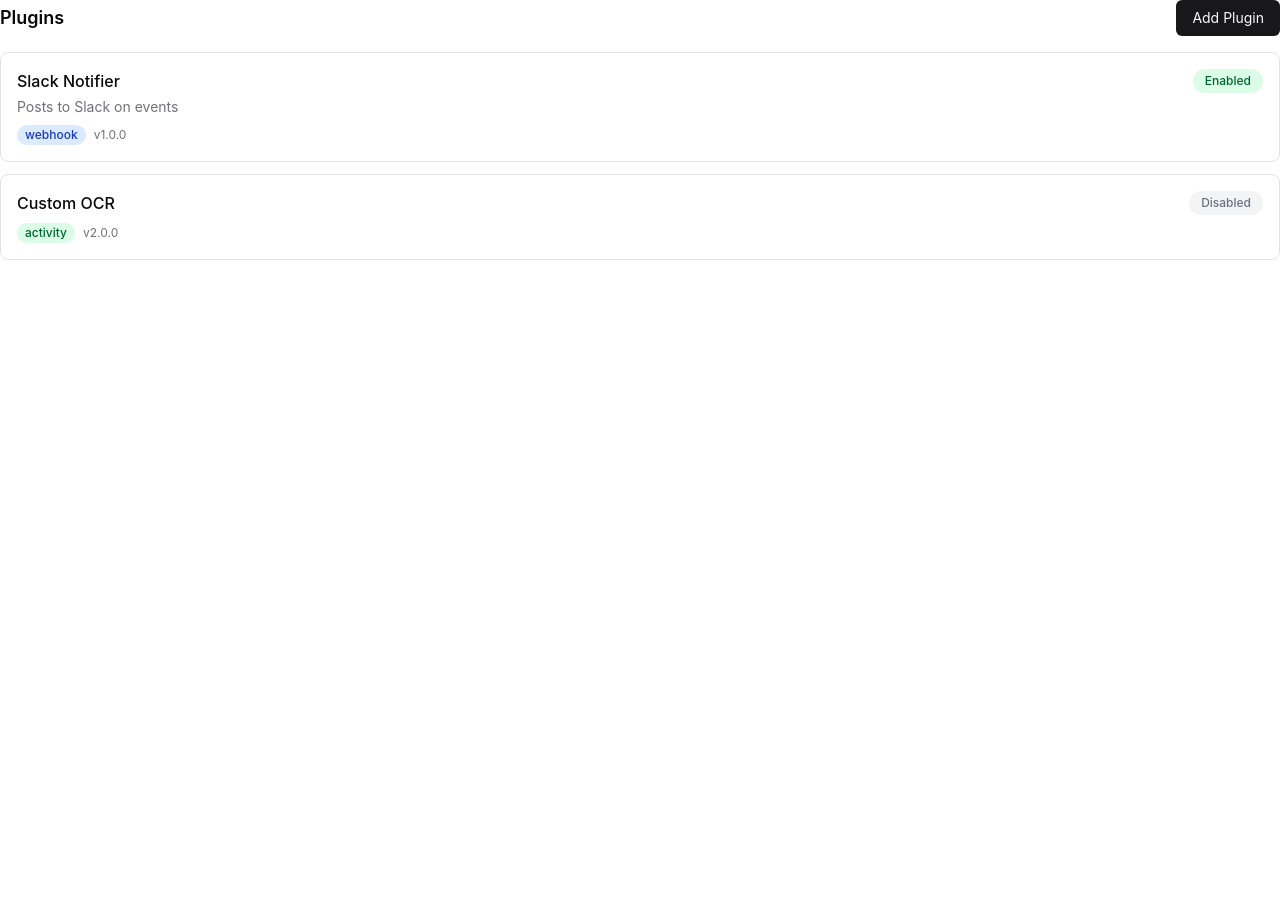
Scenario: PluginList › opens create dialog
Step 1. Click the button with test id "create-plugin-btn" → (1228, 18), box [1176,0,1279,36]
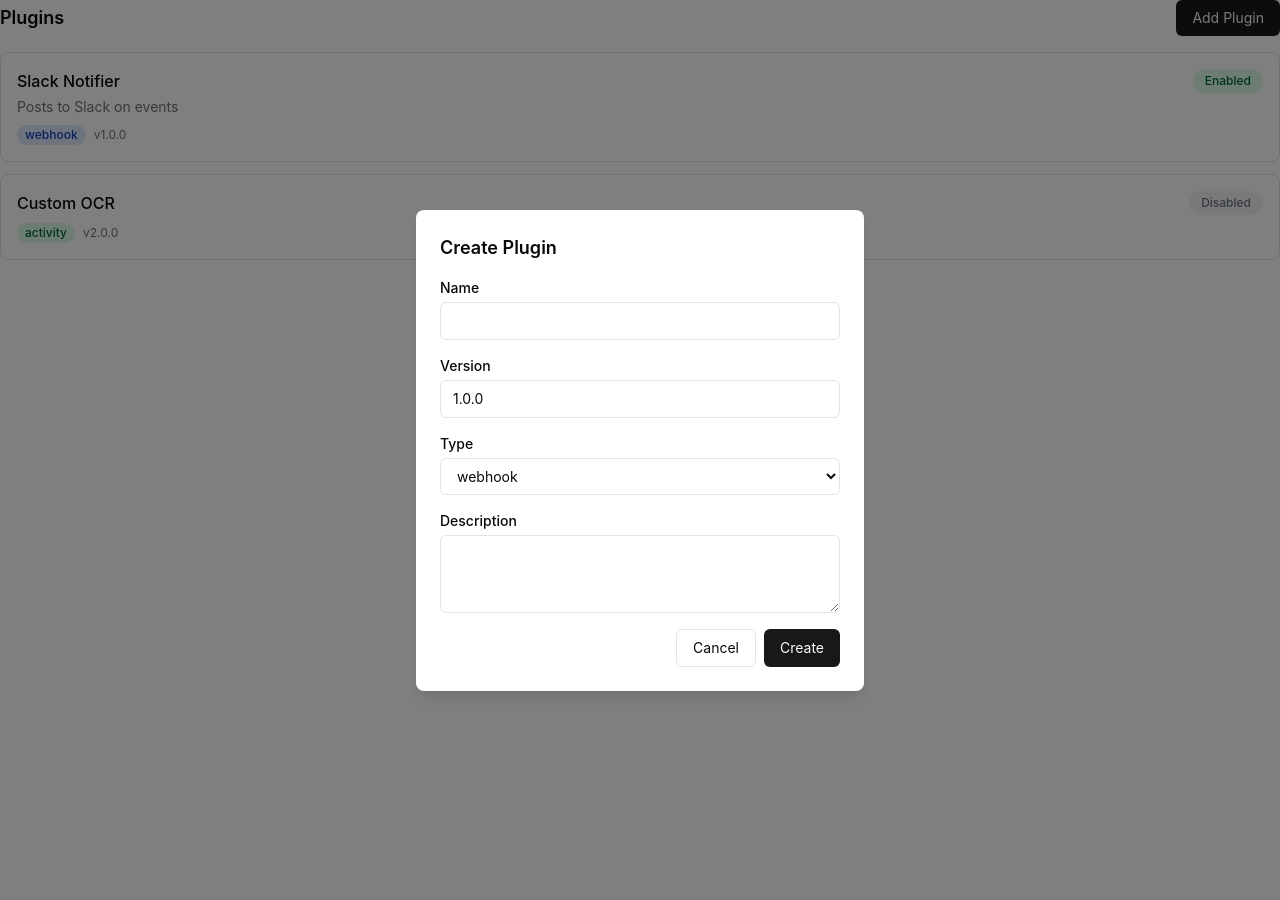
Expected: the element with test id "create-plugin-dialog" is shown
